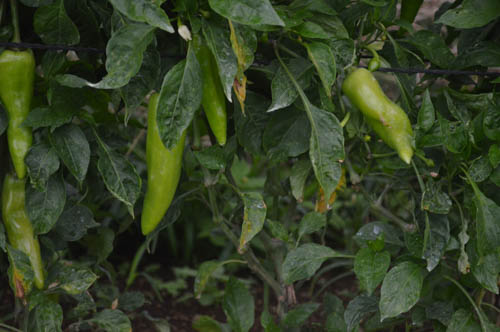ChiliPepper: (341, 69, 423, 164), (137, 89, 187, 237), (1, 177, 53, 293), (186, 34, 234, 149), (1, 46, 43, 176)
